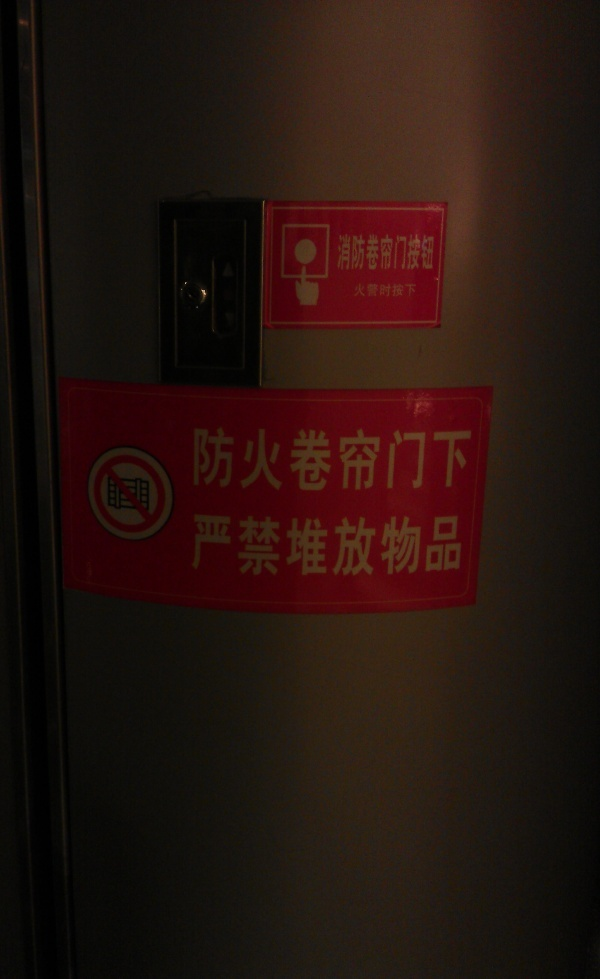text: (193, 511, 208, 578), (209, 511, 224, 578), (225, 511, 240, 578), (241, 511, 256, 578), (257, 511, 272, 578), (273, 511, 288, 578), (289, 511, 304, 578), (305, 511, 320, 578), (321, 511, 336, 578), (337, 511, 352, 578), (353, 511, 368, 578), (369, 511, 384, 578), (385, 511, 400, 578), (401, 511, 416, 578), (417, 511, 432, 578), (433, 511, 448, 578), (193, 428, 208, 491), (209, 428, 224, 491), (225, 428, 240, 491), (241, 428, 256, 491), (257, 428, 272, 491), (273, 428, 288, 491), (289, 428, 304, 491), (305, 428, 320, 491), (321, 428, 336, 491), (337, 428, 352, 491), (353, 428, 368, 491), (369, 428, 384, 491), (385, 428, 400, 491), (401, 428, 416, 491), (417, 428, 432, 491), (433, 428, 448, 491), (449, 428, 464, 491), (449, 511, 463, 578), (337, 234, 352, 273), (353, 234, 368, 273), (369, 234, 384, 273), (385, 234, 400, 273), (401, 234, 416, 273), (417, 234, 432, 273), (465, 428, 474, 491), (401, 283, 417, 298), (353, 283, 368, 298), (369, 283, 384, 298), (385, 283, 400, 298), (433, 234, 436, 273), (335, 234, 336, 273)
